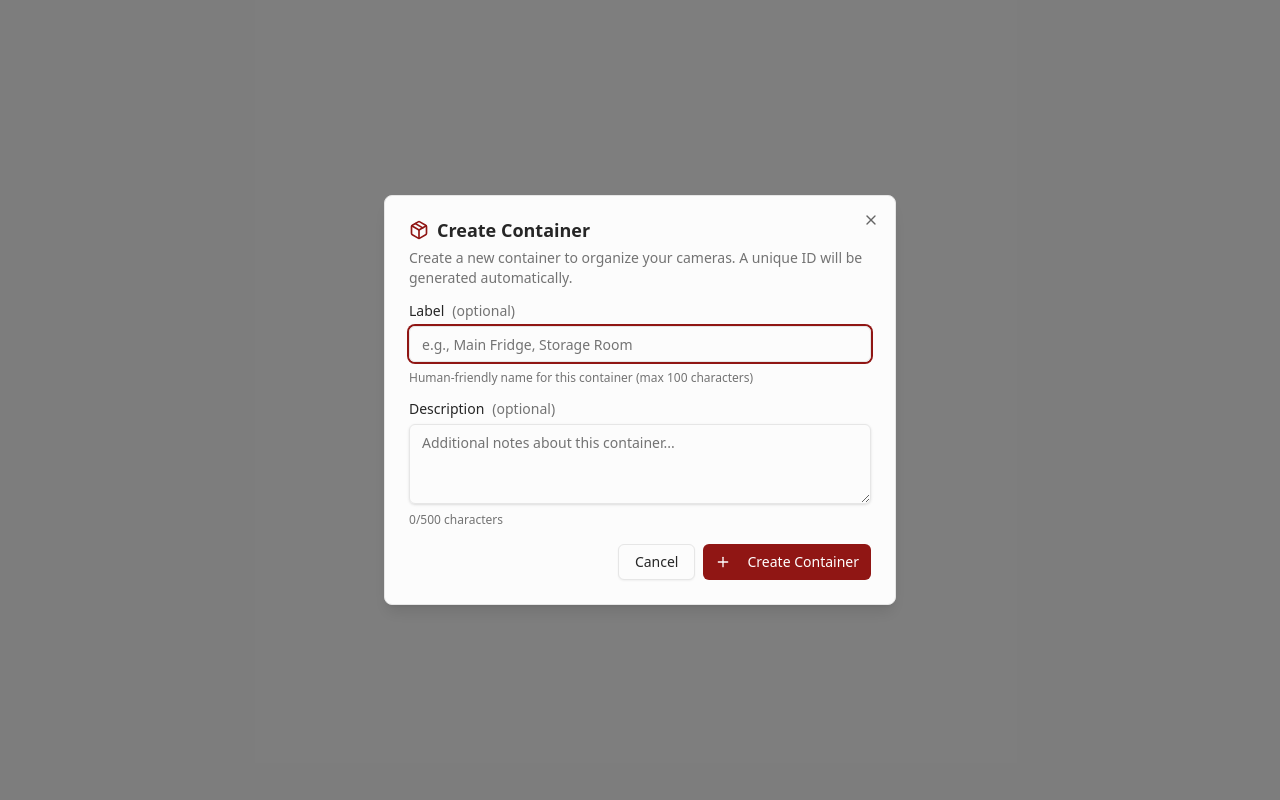
it: CreateContainerDialog › Form Fields › updates character count as user types
The image size is (1280, 800).
Type "Hello World" into the text box with test id "container-description-input" at (640, 464), box [409,424,871,504]
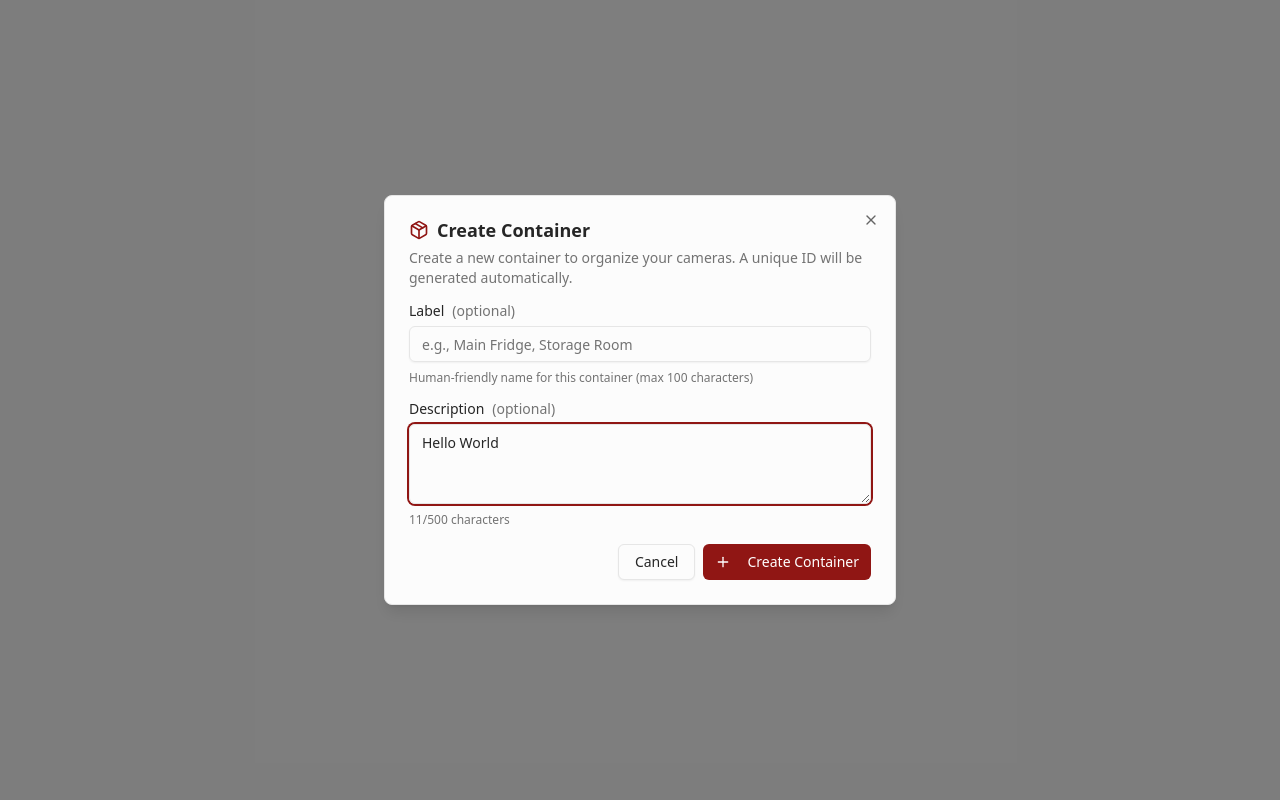
Expected: the text "11/500 characters" is shown, [409,511,510,528]
